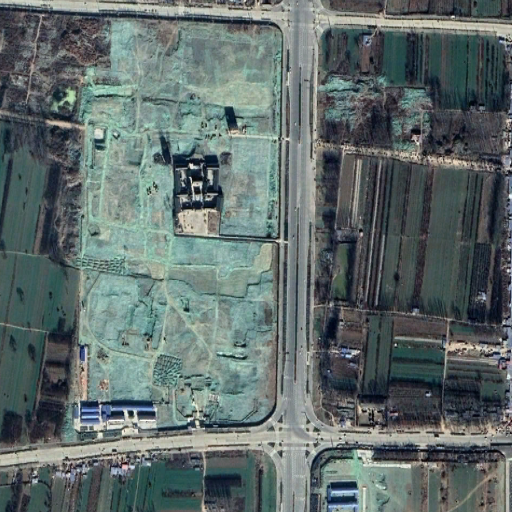cw: (61, 10, 281, 438), (318, 71, 433, 152)
